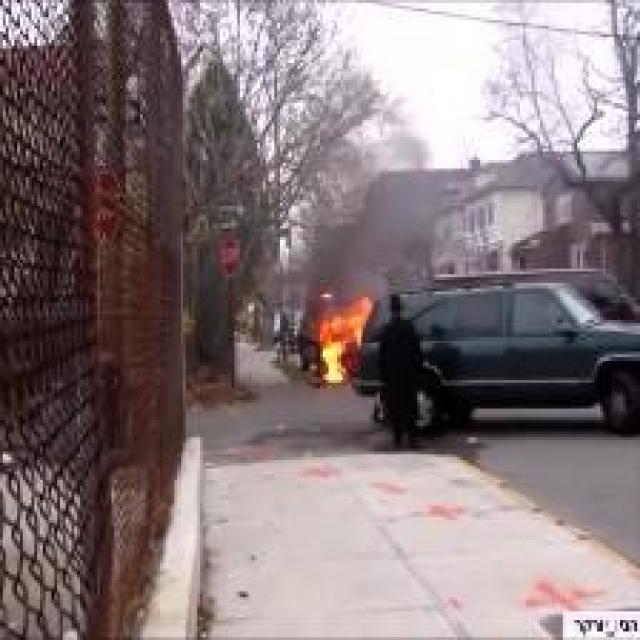fire: (295, 289, 378, 381)
smoke: (306, 136, 450, 290)
